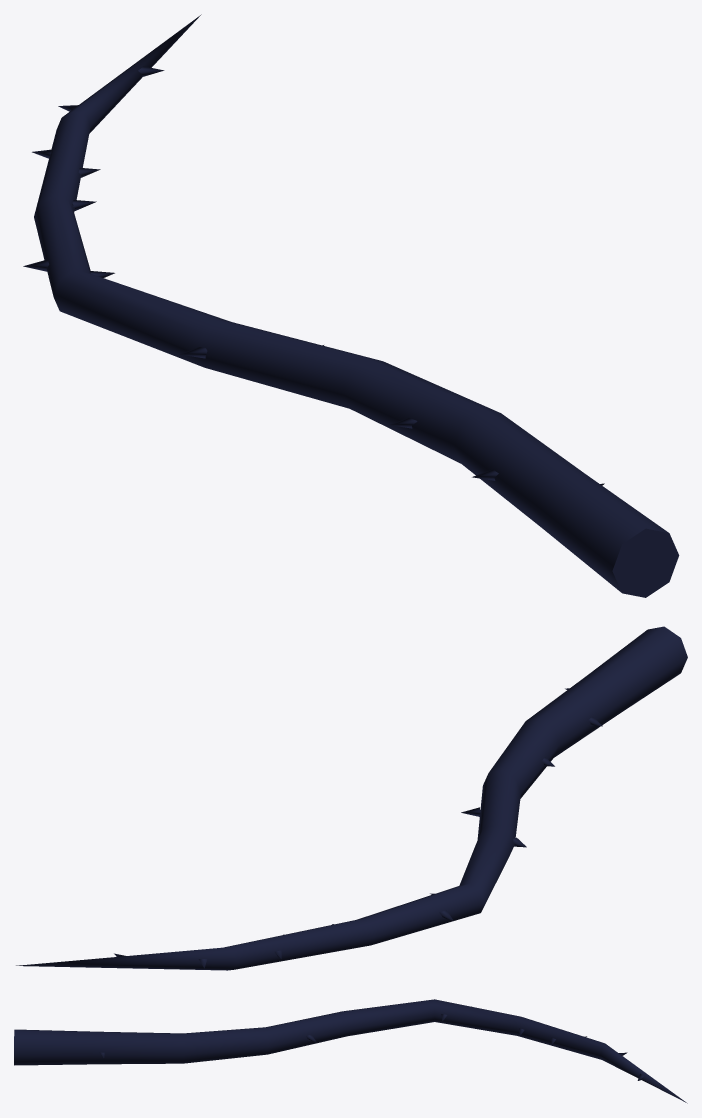
File: BG1-1Boss.fbx
3 renders of one model, top to bottom at view 1: azimuth 30°, elevation 25°; view 2: azimuth 150°, elevation 25°; view 3: azimuth 270°, elevation 25°, orthographic. The views are drawn at different scales.
Parts seen in each view (by area): view 1: Cylinder010; view 2: Cylinder010; view 3: Cylinder010.
Boxes of the visible parts, x1,y1,x2,y2 form: Cylinder010: [34, 14, 679, 597]; Cylinder010: [16, 626, 687, 970]; Cylinder010: [14, 999, 687, 1103].
Size of the model in its own units: 59.63 by 9.85 by 173.
Materials: 1 (1 with a texture image).
